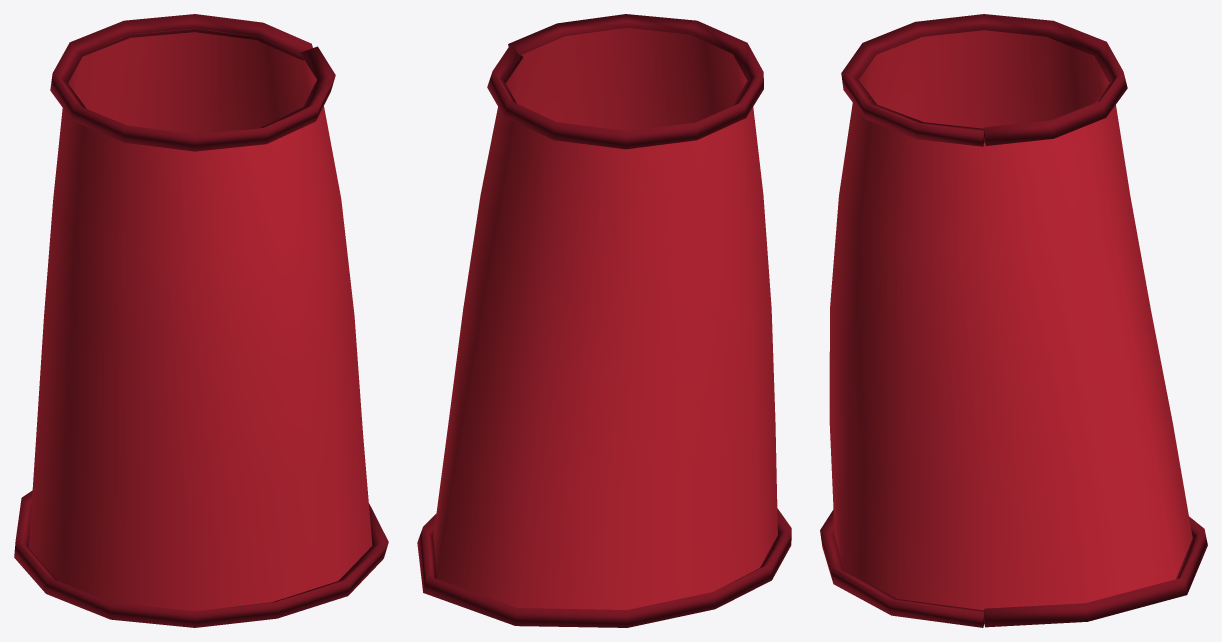
The model's file is adamantite_armor_cuisse.L.glb.
The picture shows the model from 3 angles, left to right: view 1: azimuth 30°, elevation 25°; view 2: azimuth 150°, elevation 25°; view 3: azimuth 270°, elevation 25°; orthographic projection. The views are drawn at different scales.
Parts seen in each view (by area): view 1: adamantite_armor_cuisse.L; view 2: adamantite_armor_cuisse.L; view 3: adamantite_armor_cuisse.L.
Boxes of the visible parts, bbox=[...] form: adamantite_armor_cuisse.L: bbox=[14, 14, 388, 627]; adamantite_armor_cuisse.L: bbox=[417, 14, 791, 627]; adamantite_armor_cuisse.L: bbox=[820, 14, 1207, 627].
Bounding box in the file's own units: 0.2667 × 0.3856 × 0.2845.
